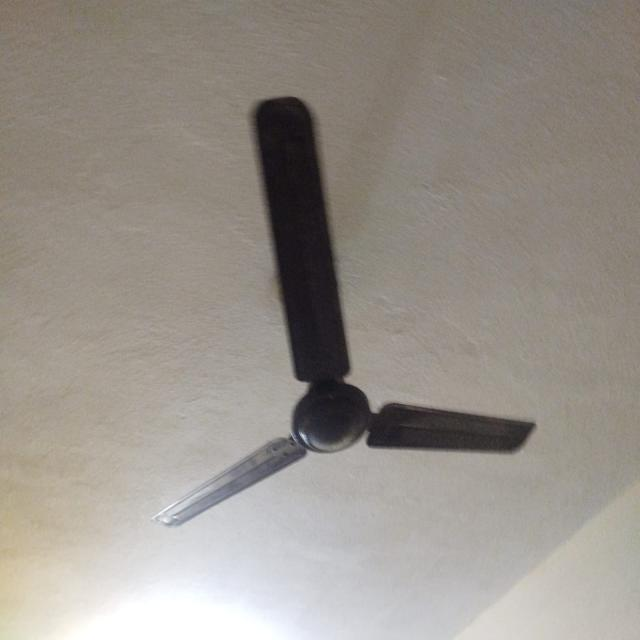fan_off: (158, 98, 536, 521)
